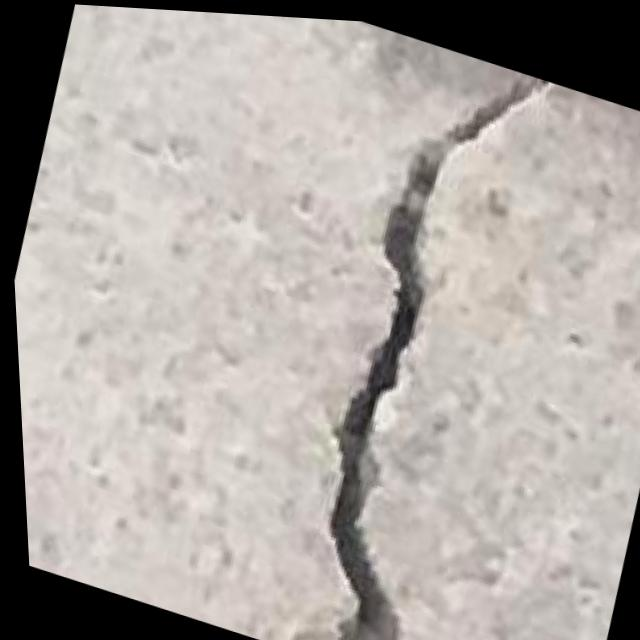Crack: (245, 26, 563, 640)
